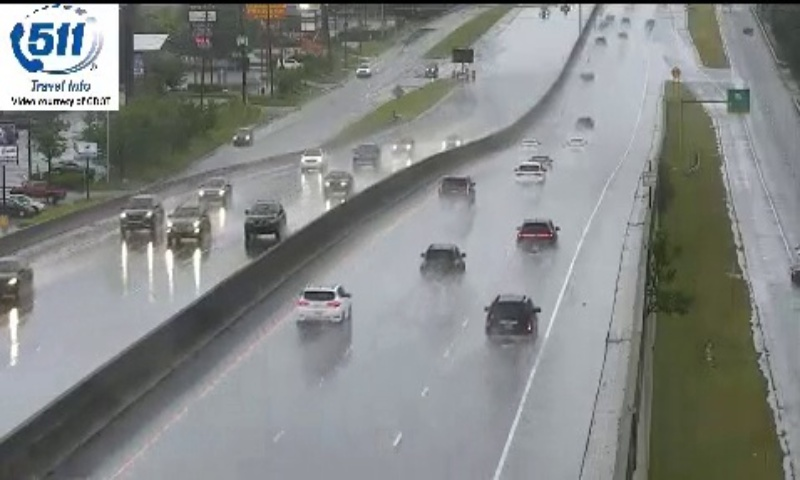car: (485, 295, 538, 342), (296, 283, 348, 323), (420, 243, 465, 280), (516, 219, 556, 251), (437, 175, 474, 203), (514, 161, 546, 186)
